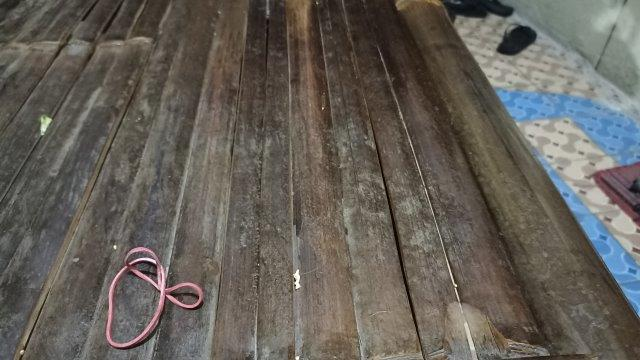karet: (106, 247, 204, 348)
